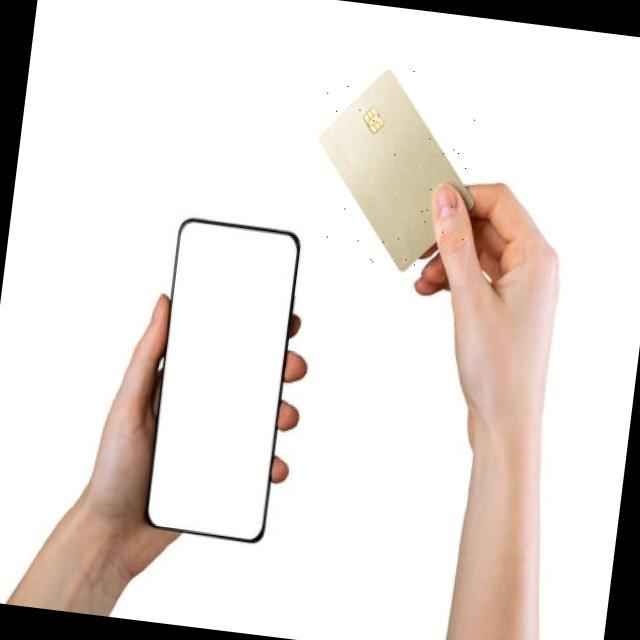payment_card: (317, 68, 475, 272)
